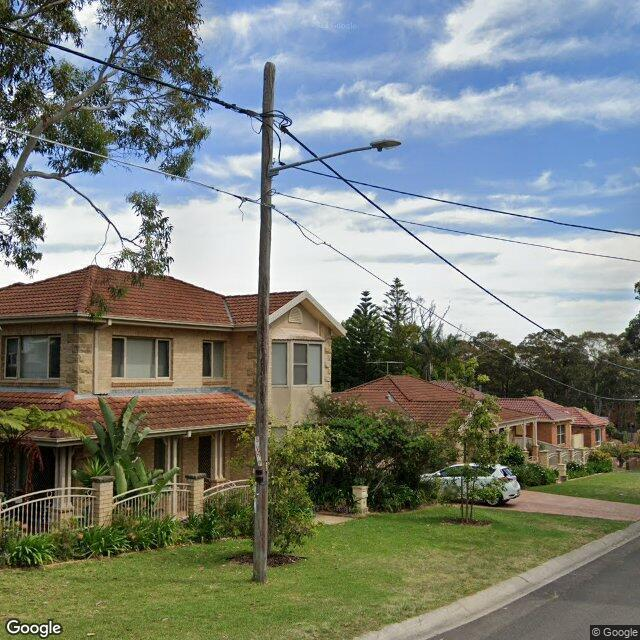streetlight: (266, 140, 402, 176)
timber-pole: (252, 63, 277, 584)
